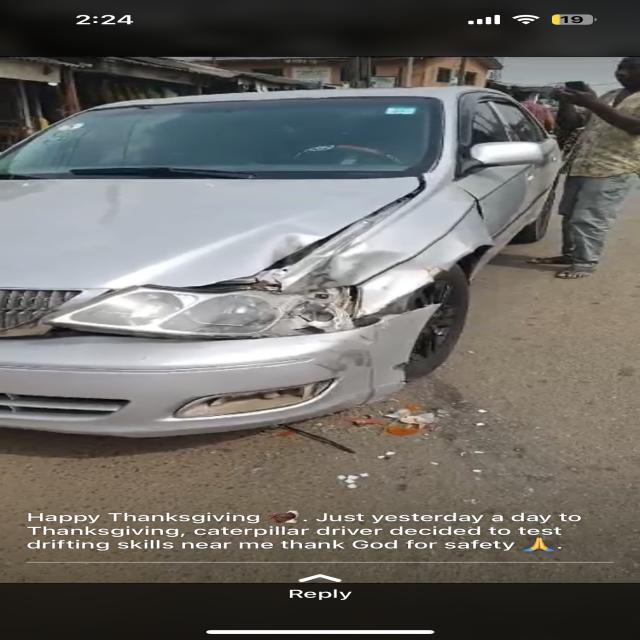Headlight-Damage: (88, 278, 360, 347)
Signlight-Damage: (265, 283, 370, 335)
bonnet-dent: (190, 220, 316, 265)
fender-dent: (267, 213, 483, 319)
front-bumper-dent: (302, 297, 461, 412)
